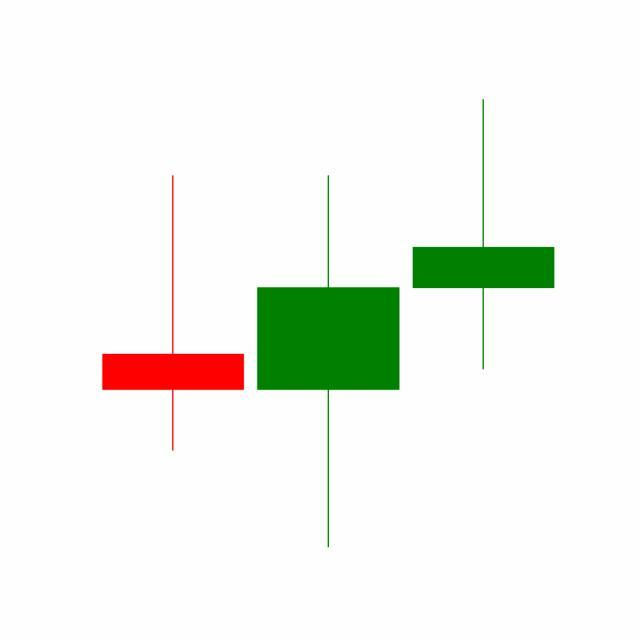Spinning Top: (250, 173, 407, 553)
